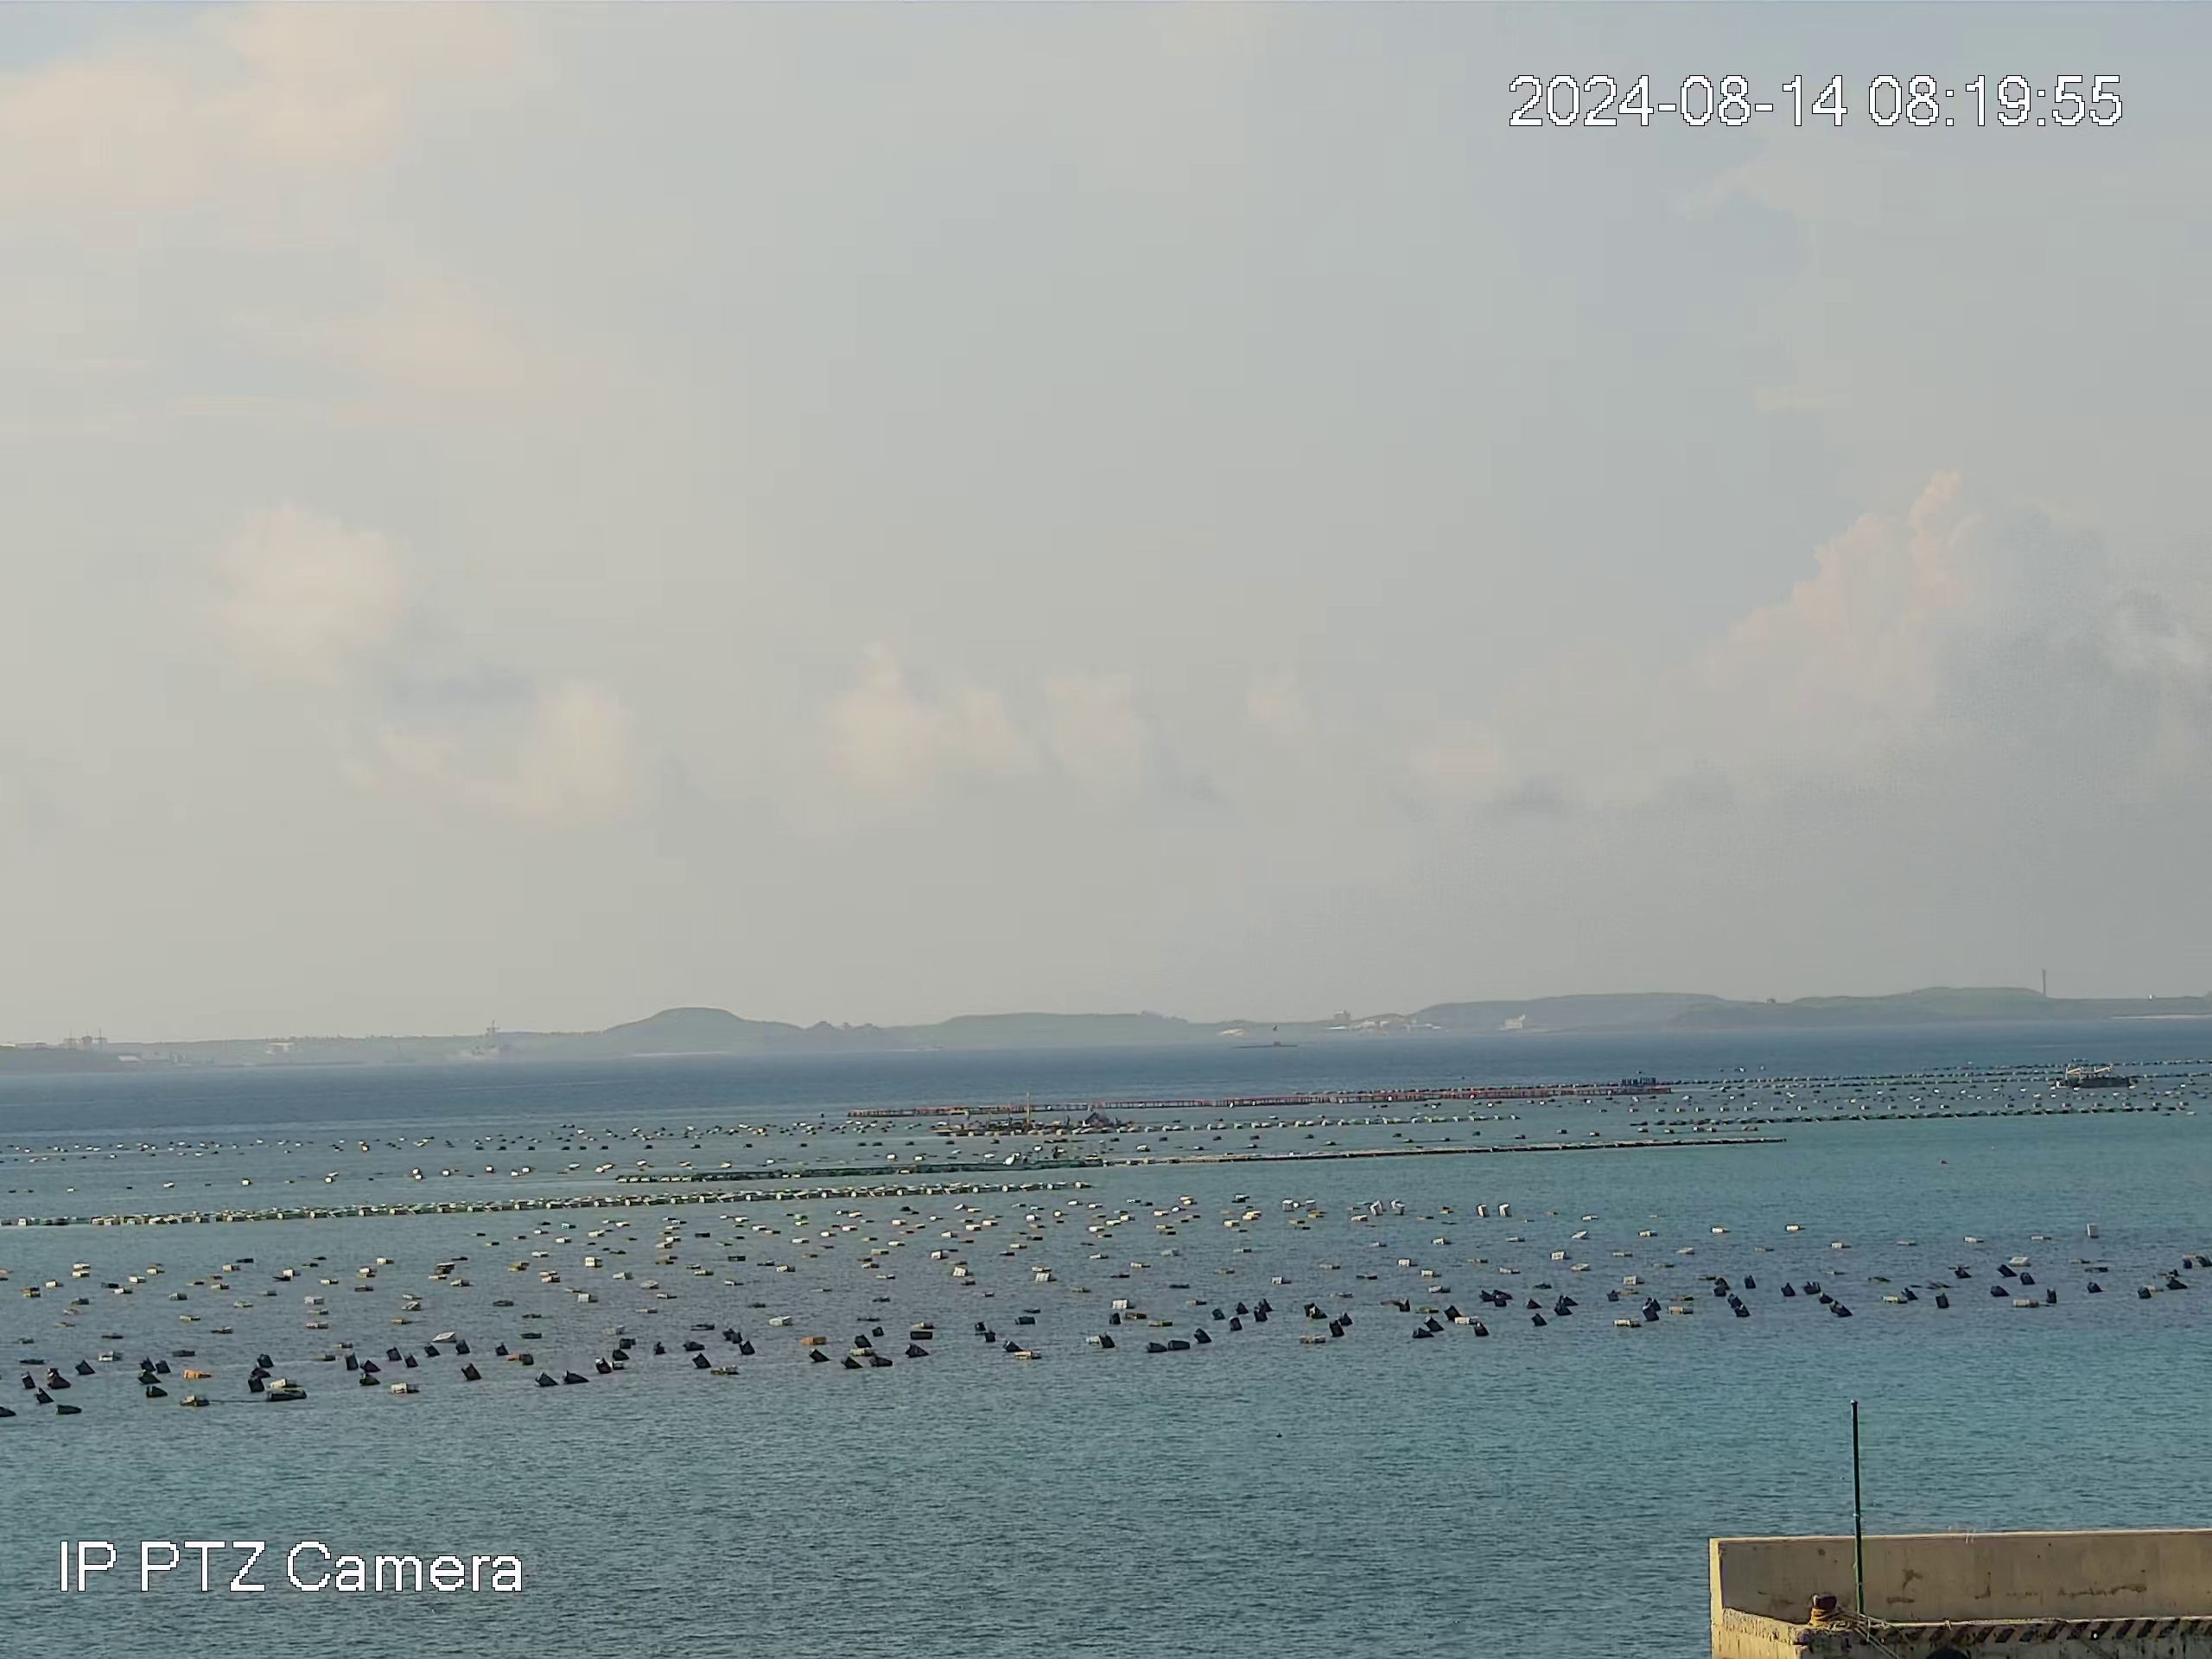boat: (2054, 1058, 2141, 1094)
